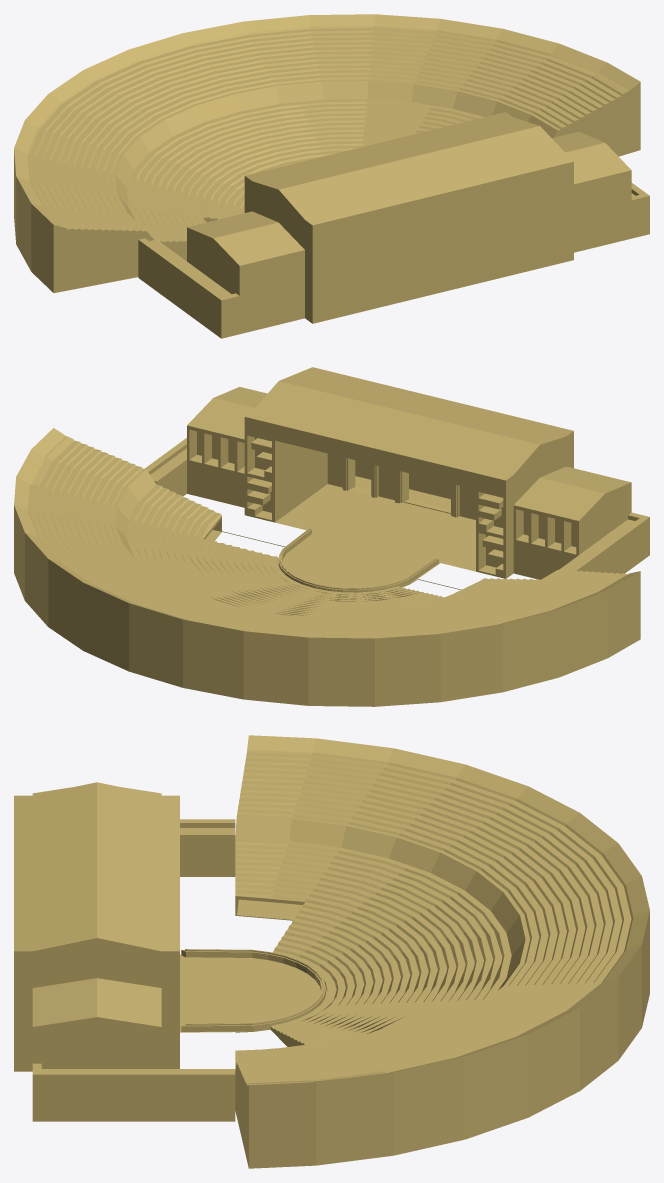
File: greek-theatre.obj
The picture shows the model from 3 angles, top to bottom: view 1: azimuth 30°, elevation 25°; view 2: azimuth 150°, elevation 25°; view 3: azimuth 270°, elevation 25°; orthographic projection. The views are drawn at different scales.
Parts seen in each view (by area): view 1: theatron_Circle, Cube; view 2: theatron_Circle, Cube, Circle_Circle.001, Plane.001; view 3: theatron_Circle, Cube, Circle_Circle.001.
Part boxes in pixels (bbox=[...]): theatron_Circle: bbox=[14, 14, 640, 292]; Cube: bbox=[138, 112, 649, 338]; theatron_Circle: bbox=[14, 428, 640, 706]; Cube: bbox=[144, 367, 649, 579]; Circle_Circle.001: bbox=[277, 527, 440, 592]; Plane.001: bbox=[355, 476, 450, 509]; theatron_Circle: bbox=[235, 735, 649, 1168]; Cube: bbox=[14, 782, 235, 1121]; Circle_Circle.001: bbox=[180, 949, 326, 1032].
Size of the model in its own units: 22.46 by 4 by 17.25.
